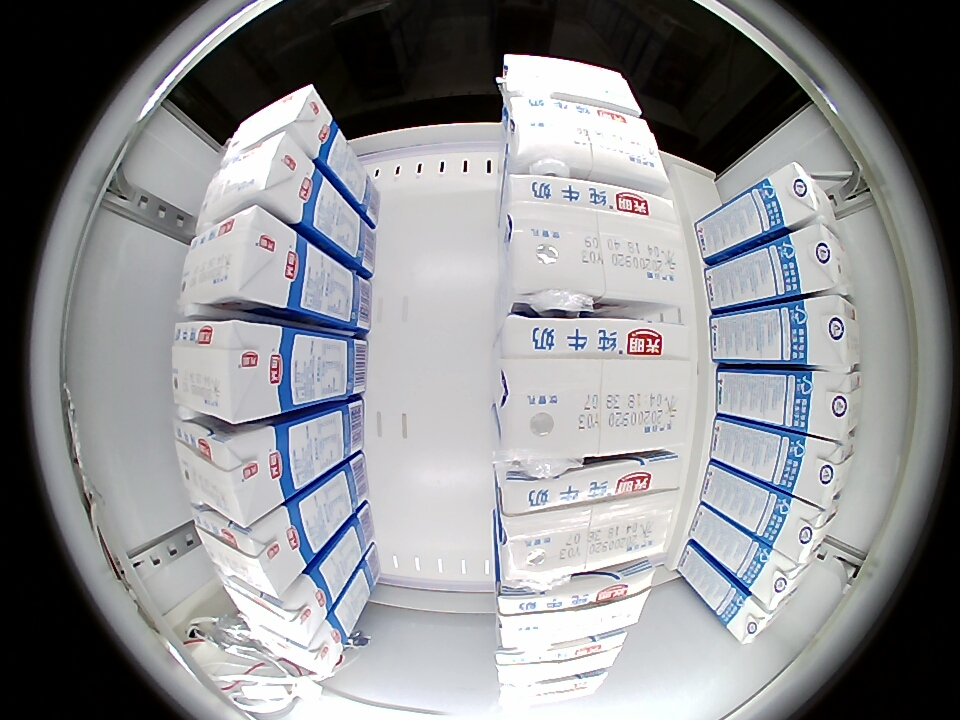niunai: (498, 312, 691, 458), (505, 175, 687, 311), (496, 453, 682, 586), (506, 98, 668, 188), (178, 205, 300, 315), (174, 416, 287, 528), (496, 570, 652, 649), (172, 319, 287, 425), (199, 132, 315, 231), (193, 502, 304, 601), (498, 53, 643, 116), (221, 570, 328, 651), (226, 84, 332, 163), (495, 630, 625, 690), (254, 620, 345, 679), (787, 222, 854, 298), (766, 162, 838, 232), (790, 433, 856, 507), (797, 295, 861, 370), (773, 494, 841, 563), (726, 583, 798, 644), (801, 368, 862, 440), (750, 546, 819, 608), (499, 673, 606, 709)
